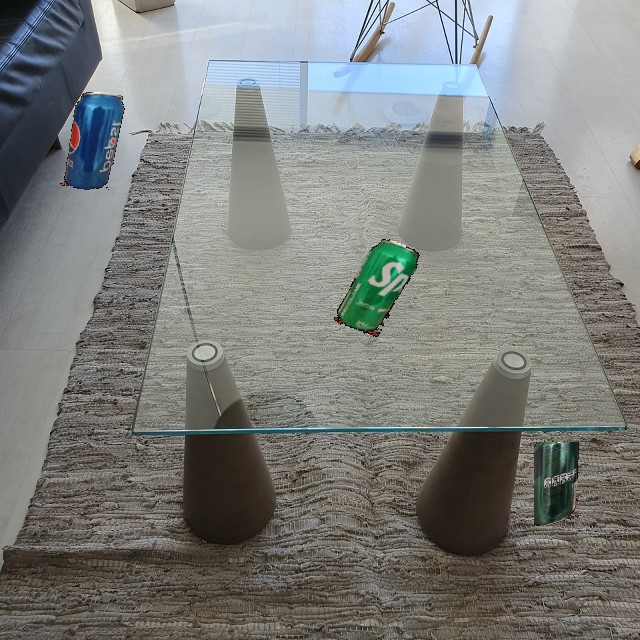pepsi: (59, 91, 128, 191)
schweppes: (534, 442, 580, 526)
sprite: (334, 229, 425, 340)
